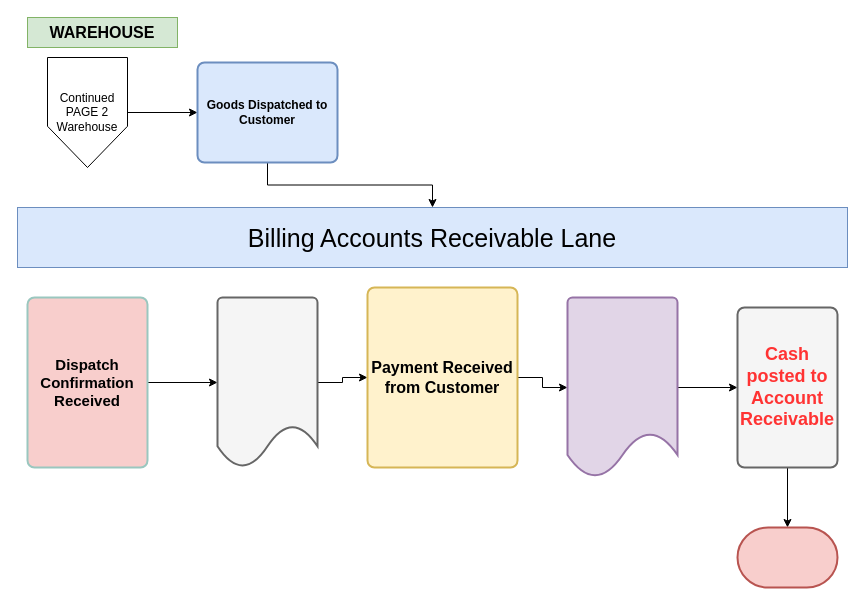
This 865x606 diagram has some shape labels left out. The shapes that lost their labels are listed below. From the top down, each one's box as (x1, y1, x2, y2) in pixels, then its label:
(216, 296, 318, 468): Invoice Generated & Sent to Customer
(566, 296, 678, 478): Remittance Advice Required
(736, 526, 838, 588): END
